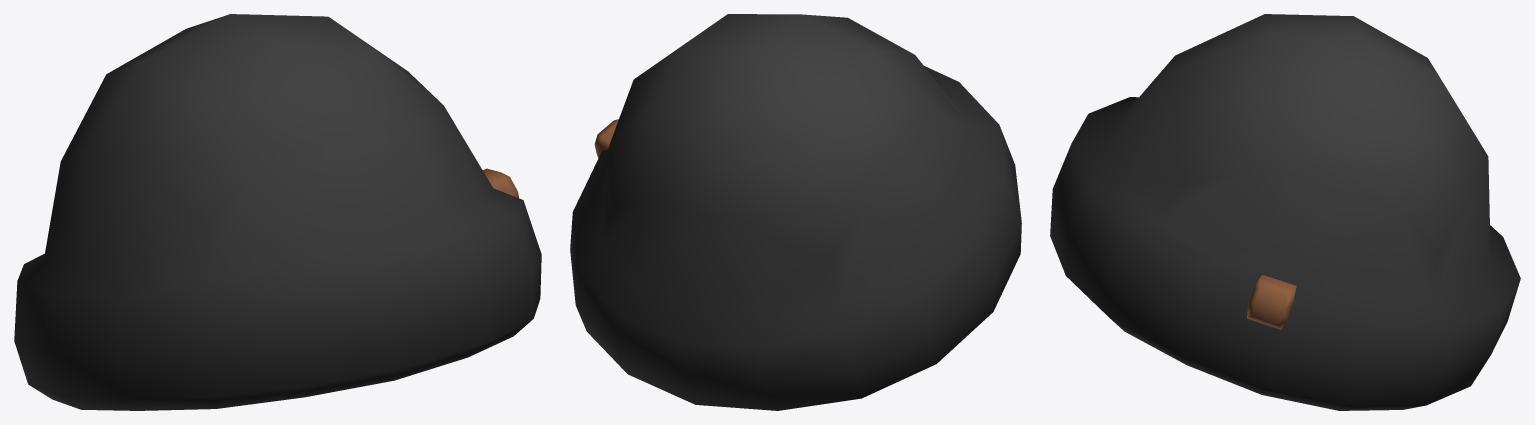
File: Headgear_5.fbx
The picture shows the model from 3 angles, left to right: view 1: azimuth 30°, elevation 25°; view 2: azimuth 150°, elevation 25°; view 3: azimuth 270°, elevation 25°; orthographic projection. The views are drawn at different scales.
Visible parts, largest first — view 1: Headgear_5; view 2: Headgear_5; view 3: Headgear_5.
Boxes of the visible parts, <box> form: Headgear_5: <box>14,14,541,410</box>; Headgear_5: <box>570,14,1021,410</box>; Headgear_5: <box>1050,14,1520,410</box>.
Bounding box in the file's own units: 71.93 × 55.53 × 71.69.
